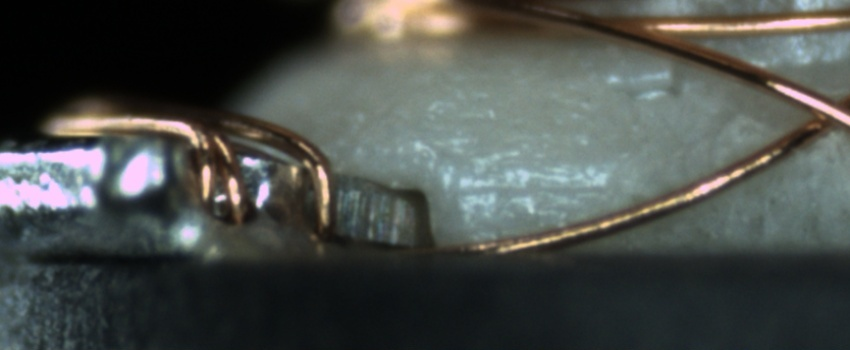CL: (780, 78, 847, 145)
DL: (450, 153, 628, 217)
TE: (35, 88, 338, 248)
